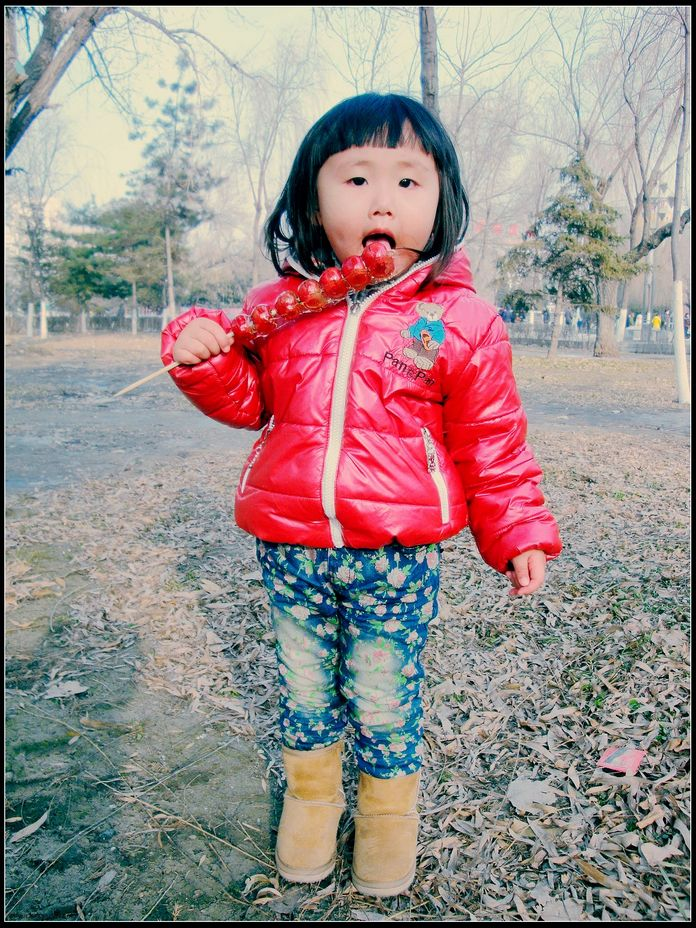face: (319, 151, 437, 274)
